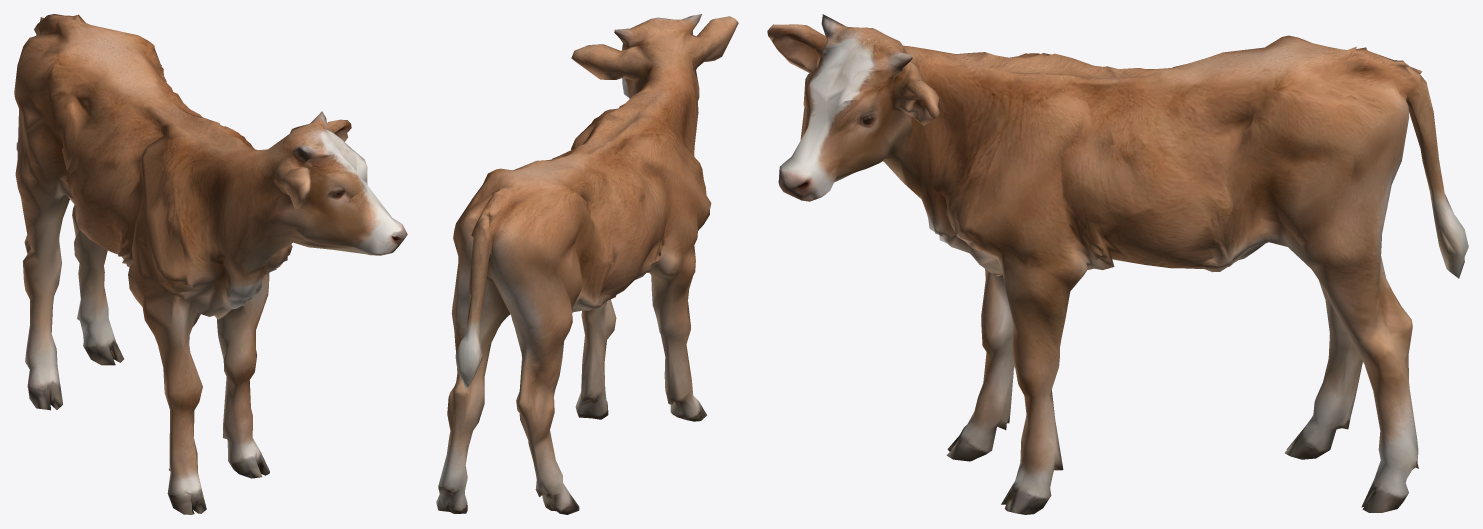
Rendered from animal_calf.glb.
The picture shows the model from 3 angles, left to right: view 1: azimuth 30°, elevation 25°; view 2: azimuth 150°, elevation 25°; view 3: azimuth 270°, elevation 25°; orthographic projection. The views are drawn at different scales.
Visible parts, largest first — view 1: tripo_node_e0ce8264-434a-40c7-baaa-e2a3d6393a0d; view 2: tripo_node_e0ce8264-434a-40c7-baaa-e2a3d6393a0d; view 3: tripo_node_e0ce8264-434a-40c7-baaa-e2a3d6393a0d.
Part boxes in pixels (x1,y1,x2,y2): tripo_node_e0ce8264-434a-40c7-baaa-e2a3d6393a0d: (14, 14, 407, 514); tripo_node_e0ce8264-434a-40c7-baaa-e2a3d6393a0d: (436, 14, 738, 514); tripo_node_e0ce8264-434a-40c7-baaa-e2a3d6393a0d: (767, 14, 1468, 514).
Bounding box in the file's own units: 0.3352 × 0.7274 × 0.9808.
1 material, 1 textured.
